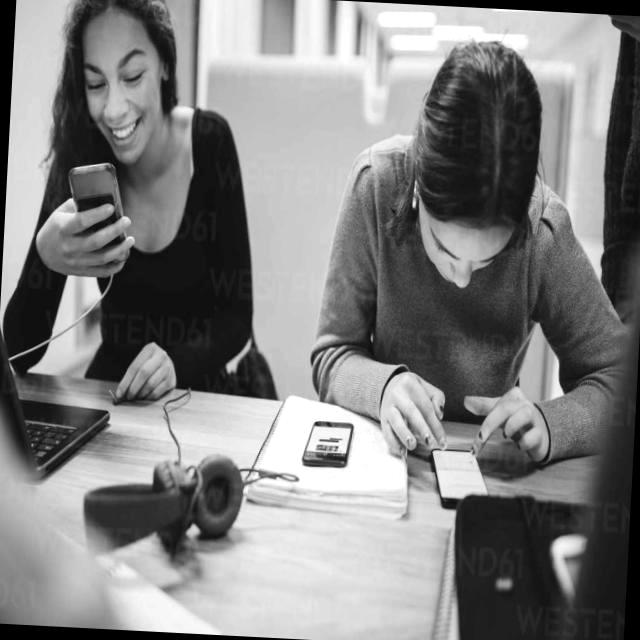phone: (63, 160, 130, 268), (426, 447, 492, 511), (302, 418, 354, 468)
